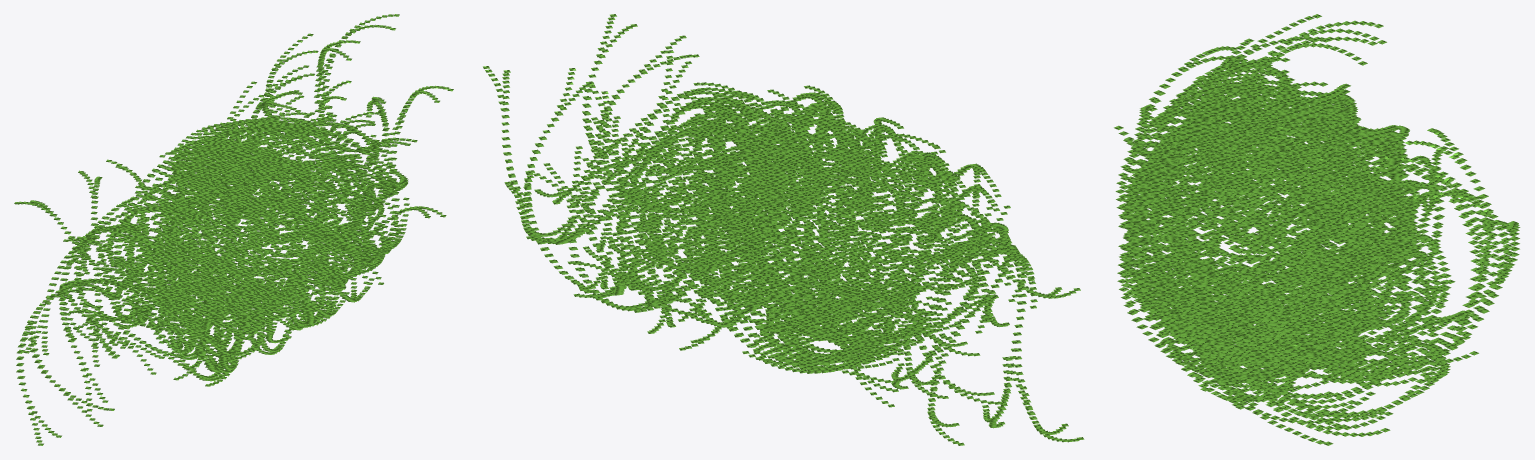
3 views of the same model, side by side, from view 1: azimuth 30°, elevation 25°; view 2: azimuth 150°, elevation 25°; view 3: azimuth 270°, elevation 25° (orthographic). The views are drawn at different scales.
Visible parts, largest first — view 1: outpu4t; view 2: outpu4t; view 3: outpu4t.
Boxes of the visible parts, left/top/right/bottom form: outpu4t: left=14, top=14, right=453, bottom=445; outpu4t: left=483, top=14, right=1084, bottom=445; outpu4t: left=1114, top=14, right=1520, bottom=445.
Size of the model in its own units: 42.98 by 25.76 by 24.43.
